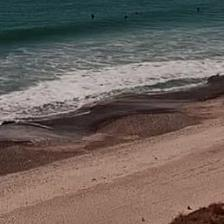surfer: (135, 11, 139, 15), (91, 14, 94, 19), (124, 16, 128, 19), (197, 7, 200, 11)
